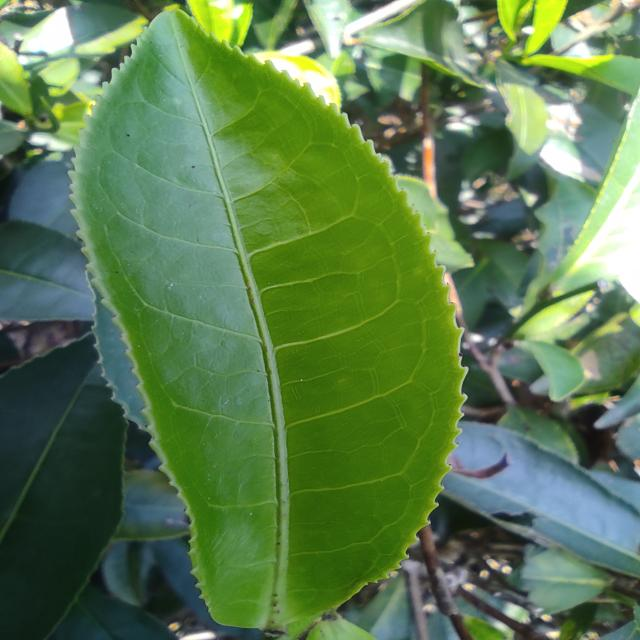Category C(4-7 days): (71, 5, 473, 639)
